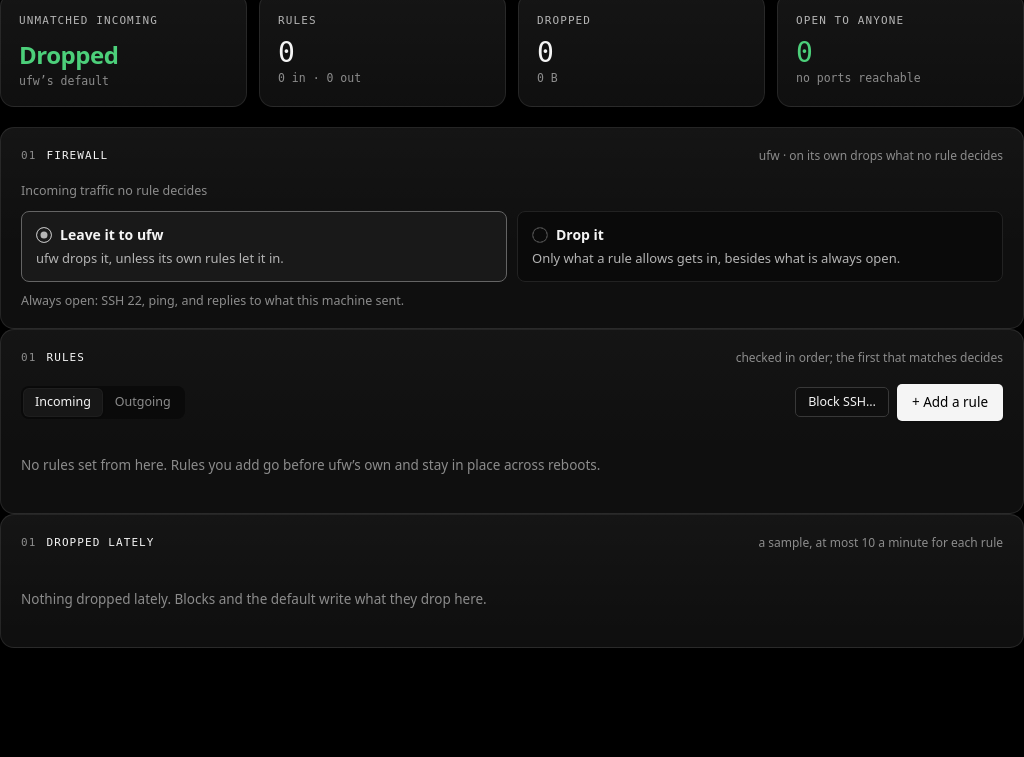
Test: Firewall manager › reads an answer with no open ports (null from an older agent) instead of failing
Step 1. Click the button "+ Add a rule" → (950, 402), box [897,384,1003,421]
(page scrolled)
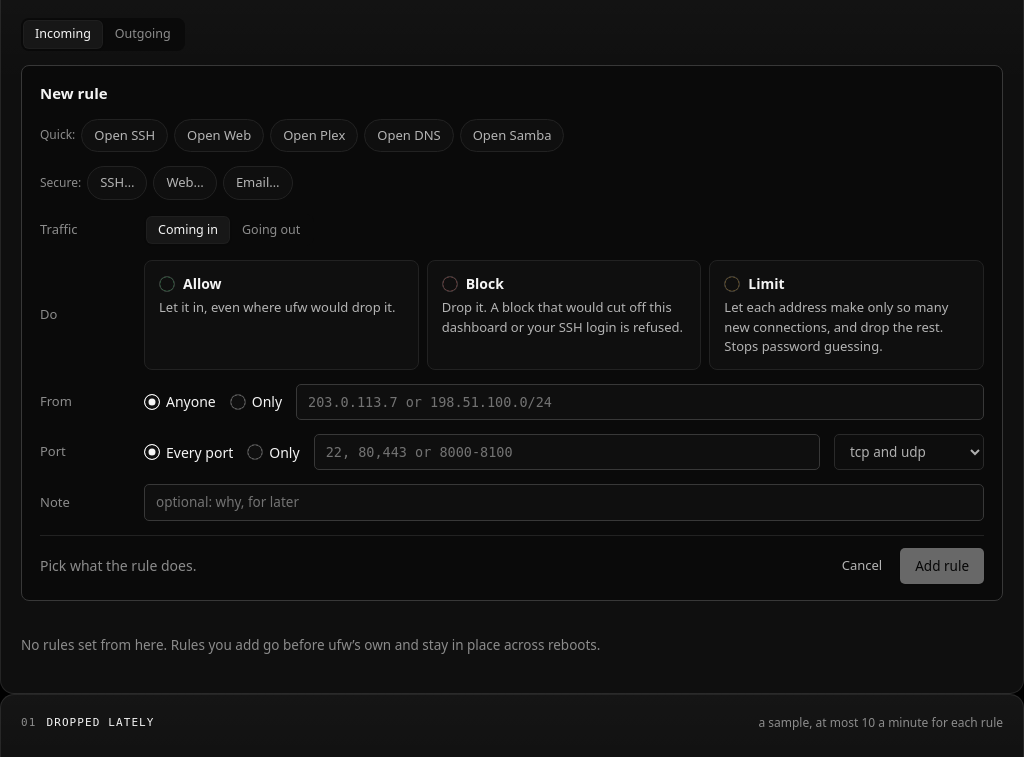
Expected: the field named "Port" is shown, [314,434,820,470]
